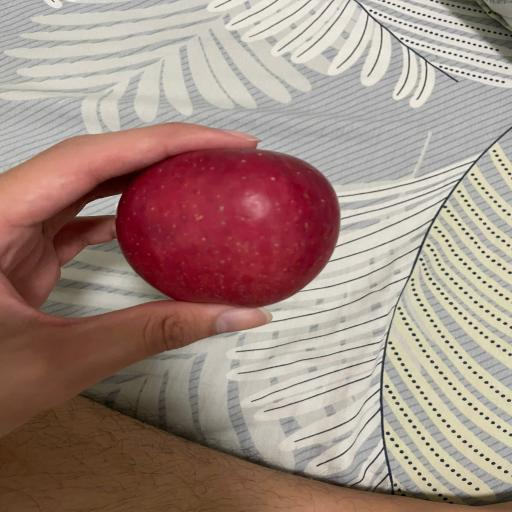apple: (116, 149, 339, 307)
